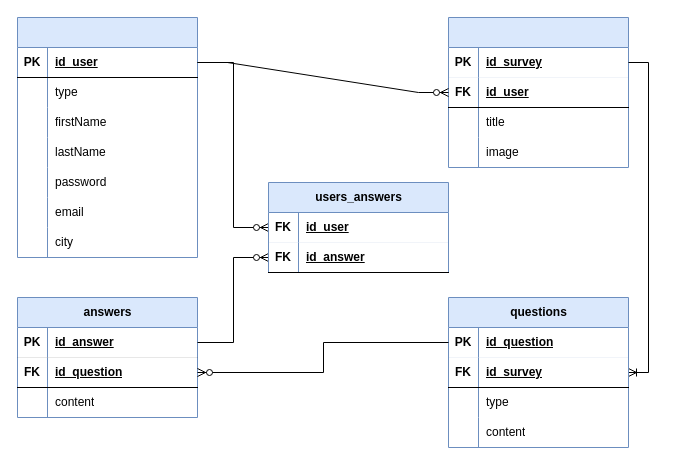
Some shapes in this 674 by 465 pixel diagram are drawn without their labels. Each missing label, with the box of its shape:
surveys: (448, 16, 628, 168)
users: (16, 16, 198, 258)
